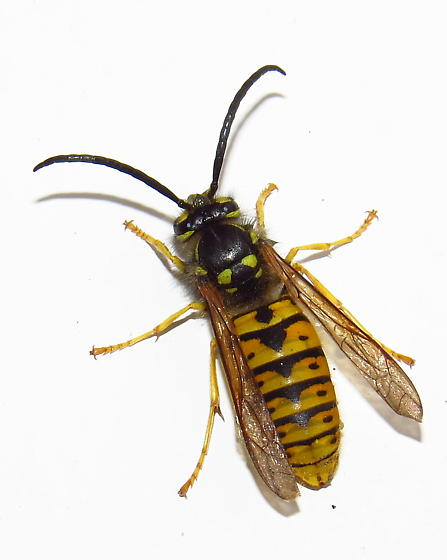chax: (31, 56, 432, 518)
